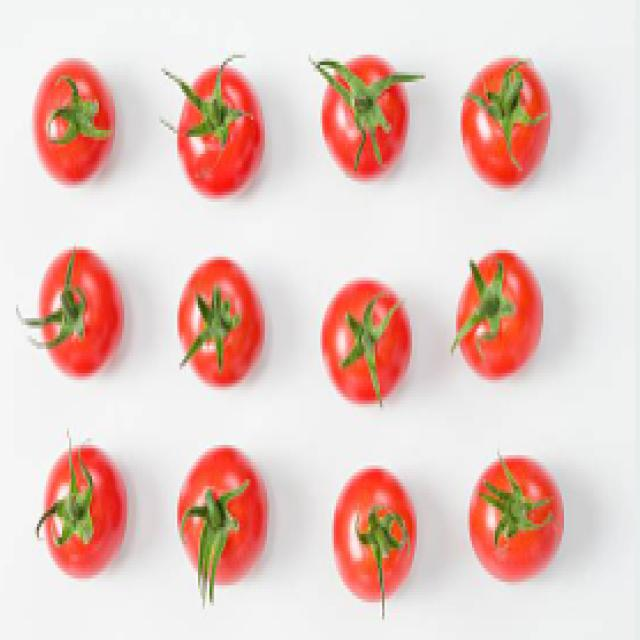Tomato: (454, 36, 561, 189), (168, 448, 275, 595), (317, 448, 415, 607), (21, 49, 134, 184), (316, 35, 412, 186), (22, 252, 127, 382), (471, 442, 560, 585), (450, 248, 546, 380), (39, 439, 131, 575), (322, 276, 412, 410), (174, 64, 264, 194), (179, 254, 266, 388)
